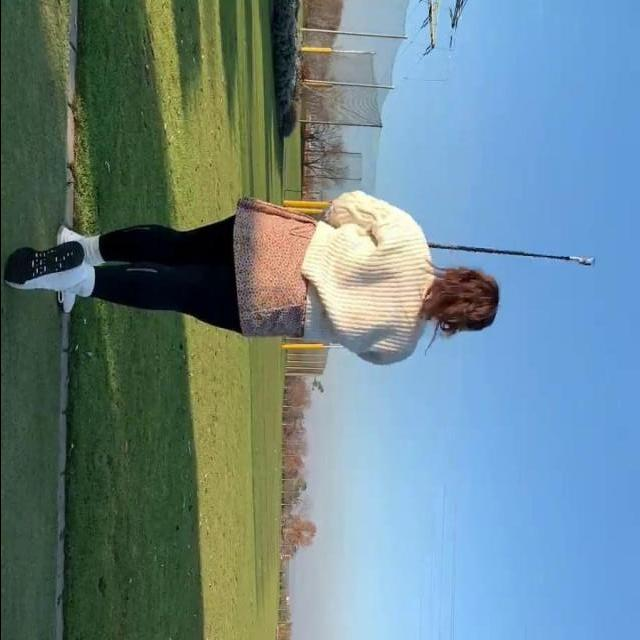ClubHandle: (426, 243, 594, 267)
ClubHead: (576, 255, 594, 266)
